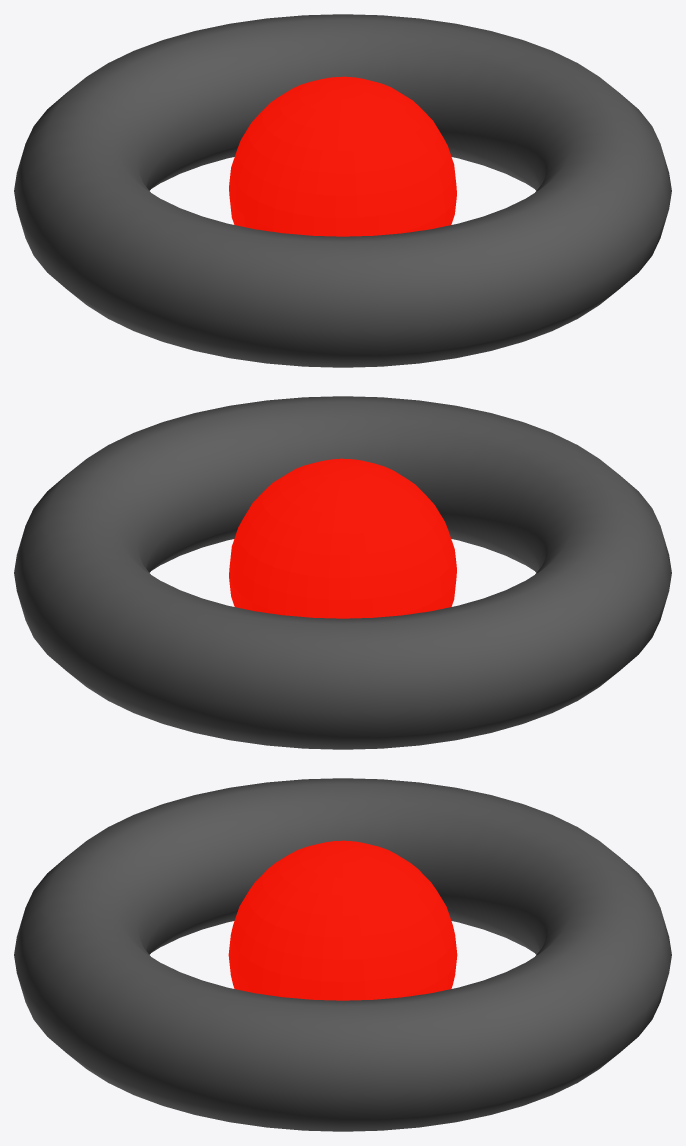
File: donut.glb
The picture shows the model from 3 angles, top to bottom: view 1: azimuth 30°, elevation 25°; view 2: azimuth 150°, elevation 25°; view 3: azimuth 270°, elevation 25°; orthographic projection.
Parts seen in each view (by area): view 1: Torus, Sphere; view 2: Torus, Sphere; view 3: Torus, Sphere.
Boxes of the visible parts, <box> form: Torus: <box>14,14,671,367</box>; Sphere: <box>229,76,456,236</box>; Torus: <box>14,396,671,749</box>; Sphere: <box>229,458,456,618</box>; Torus: <box>14,778,671,1131</box>; Sphere: <box>228,840,457,1000</box>.
Size of the model in its own units: 10.85 by 3.77 by 10.85.
